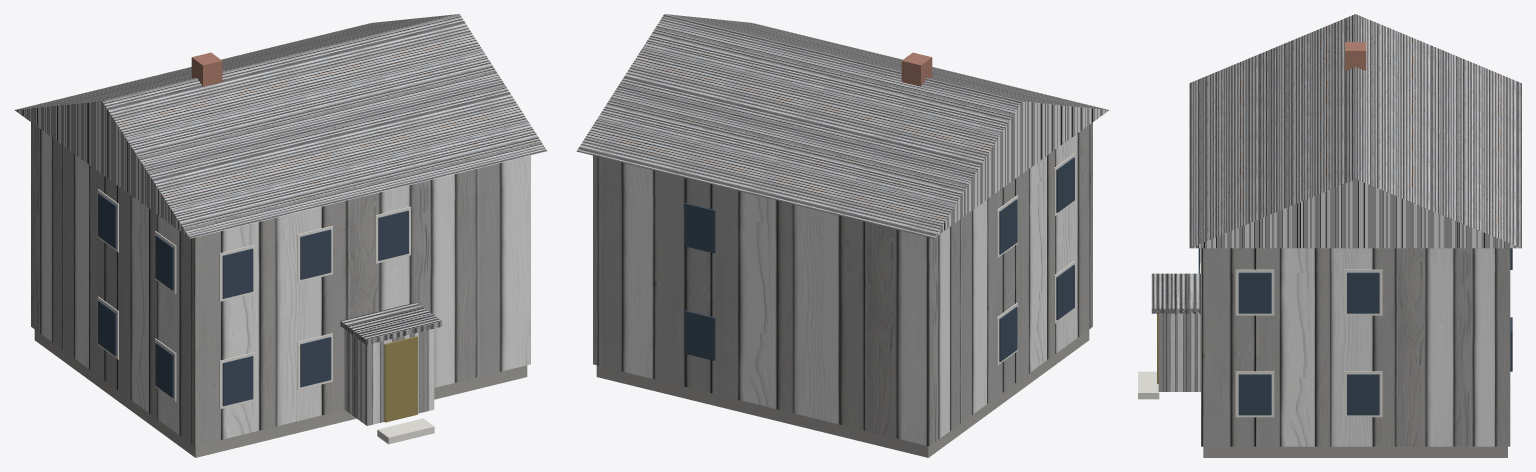
Rendered from asset.glb.
The picture shows the model from 3 angles, left to right: view 1: azimuth 30°, elevation 25°; view 2: azimuth 150°, elevation 25°; view 3: azimuth 270°, elevation 25°; orthographic projection. The views are drawn at different scales.
Visible parts, largest first — view 1: body, roof, gable_end, foundation, porch, door, porch_cap, win.007, win.008, win, win.001, win.009 (+8 smaller); view 2: body, roof, gable_end, foundation, win.006, win.014, chimney, win.010, win.011, win.002, win.003; view 3: body, roof, gable_end, foundation, porch, porch_cap, win.004, win.012, win.005, win.013, chimney, win_trim.004 (+4 smaller).
Part boxes in pixels (box(x1,y1,x2,y2)): body: box(31, 122, 530, 446); roof: box(15, 14, 547, 238); gable_end: box(15, 101, 189, 237); foundation: box(34, 329, 527, 457); porch: box(344, 328, 434, 425); door: box(384, 336, 417, 422); porch_cap: box(340, 302, 442, 344); win.007: box(222, 248, 253, 298); win.008: box(300, 229, 331, 279); win: box(222, 356, 253, 406); win.001: box(300, 337, 331, 387); win.009: box(378, 210, 408, 260); body: box(593, 122, 1092, 446); roof: box(576, 14, 1108, 238); gable_end: box(934, 101, 1108, 237); foundation: box(596, 329, 1089, 457); win.006: box(684, 310, 715, 360); win.014: box(684, 203, 715, 253); chimney: box(901, 52, 932, 86); win.010: box(1056, 157, 1074, 212); win.011: box(999, 199, 1017, 254); win.002: box(1056, 265, 1074, 320); win.003: box(999, 306, 1017, 361); body: box(1201, 248, 1510, 446); roof: box(1189, 14, 1521, 247); gable_end: box(1190, 179, 1521, 248); foundation: box(1203, 446, 1507, 457); porch: box(1158, 313, 1200, 391); porch_cap: box(1151, 273, 1200, 313); win.004: box(1238, 374, 1271, 415); win.012: box(1238, 272, 1271, 313); win.005: box(1347, 374, 1379, 415); win.013: box(1347, 272, 1379, 313); chimney: box(1345, 42, 1366, 70); win_trim.004: box(1235, 371, 1274, 417).
Size of the model in its own units: 10.1 by 8.58 by 9.93.
7 materials, 2 textured.
